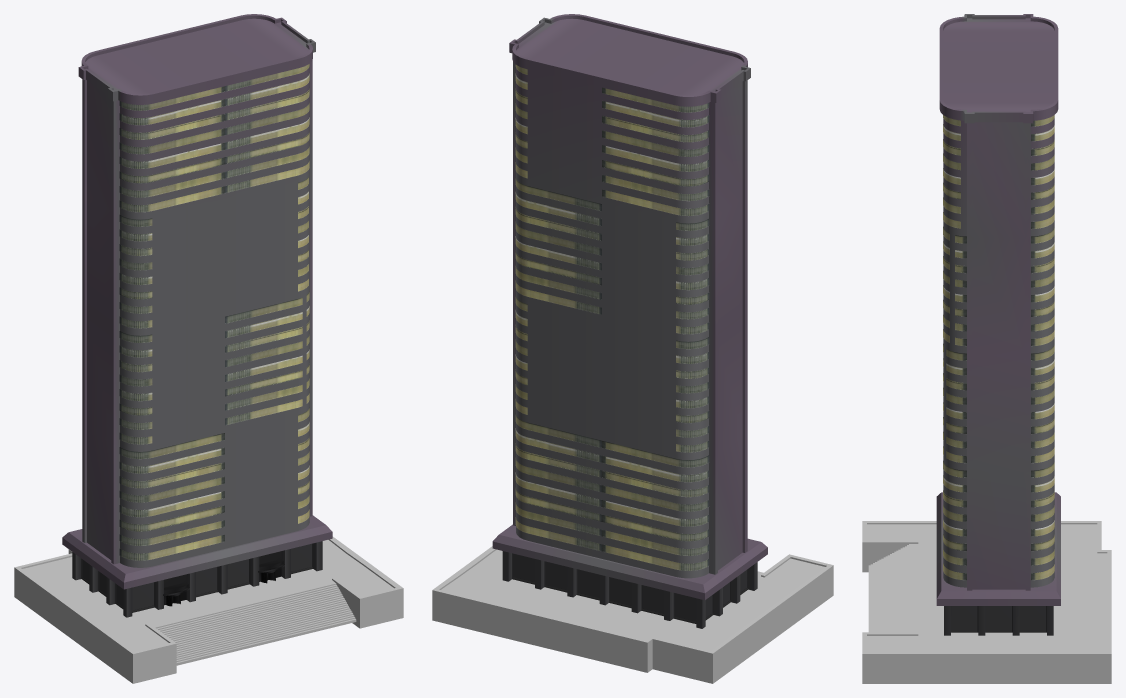
File: downtown_skyscraper_8.FBX
The picture shows the model from 3 angles, left to right: view 1: azimuth 30°, elevation 25°; view 2: azimuth 150°, elevation 25°; view 3: azimuth 270°, elevation 25°; orthographic projection.
Parts seen in each view (by area): view 1: downtown_skyscraper_8, em_win_dwtn_skyscraper_8, platform_dtw_skyscraper_8; view 2: downtown_skyscraper_8, em_win_dwtn_skyscraper_8, platform_dtw_skyscraper_8; view 3: downtown_skyscraper_8, platform_dtw_skyscraper_8, em_win_dwtn_skyscraper_8.
Part boxes in pixels (x1,y1,x2,y2): downtown_skyscraper_8: [62, 14, 332, 617]; em_win_dwtn_skyscraper_8: [119, 64, 309, 560]; platform_dtw_skyscraper_8: [14, 536, 403, 683]; downtown_skyscraper_8: [492, 14, 767, 628]; em_win_dwtn_skyscraper_8: [515, 65, 709, 570]; platform_dtw_skyscraper_8: [432, 546, 833, 683]; downtown_skyscraper_8: [936, 14, 1060, 635]; platform_dtw_skyscraper_8: [862, 521, 1111, 683]; em_win_dwtn_skyscraper_8: [943, 115, 1054, 580].
Size of the model in its own units: 346 by 670 by 274.
